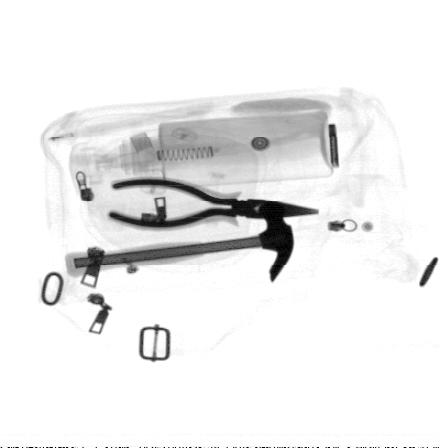Hammer: (64, 199, 296, 282)
Pliers: (108, 176, 319, 231)
